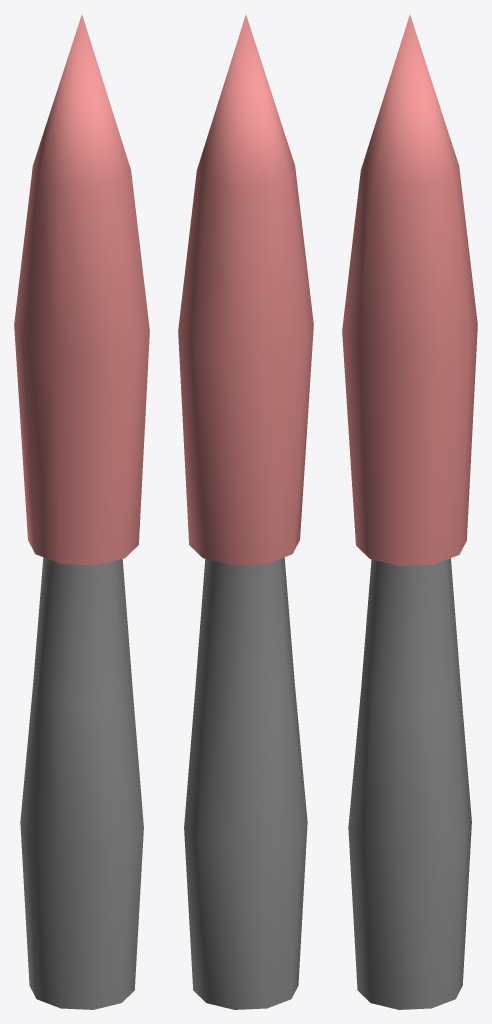
Rendered from mush_piece_07.gltf.
The picture shows the model from 3 angles, left to right: view 1: azimuth 30°, elevation 25°; view 2: azimuth 150°, elevation 25°; view 3: azimuth 330°, elevation 25°; orthographic projection.
Visible parts, largest first — view 1: mush_piece_07; view 2: mush_piece_07; view 3: mush_piece_07.
Part boxes in pixels (x1,y1,x2,y2): mush_piece_07: (14,15,149,1009); mush_piece_07: (178,15,313,1009); mush_piece_07: (342,15,477,1009).
Bounding box in the file's own units: 0.0896 × 0.7071 × 0.0859.
